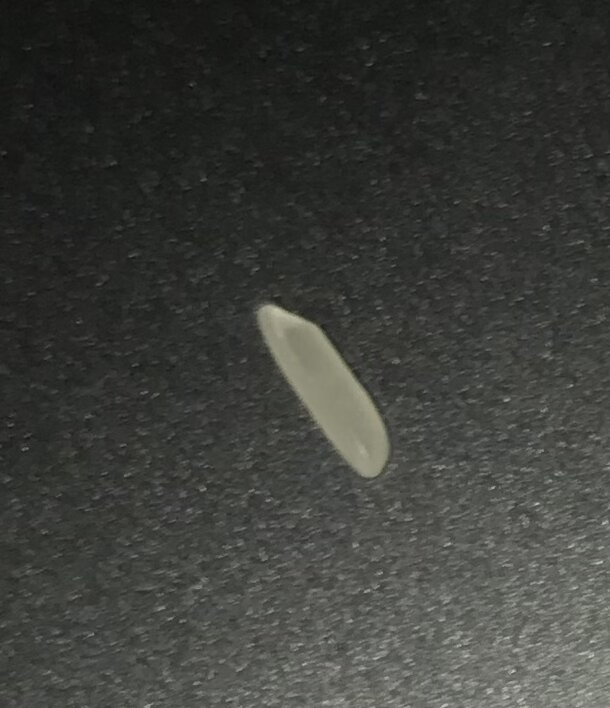Gao Long Lai: (242, 293, 407, 490)
